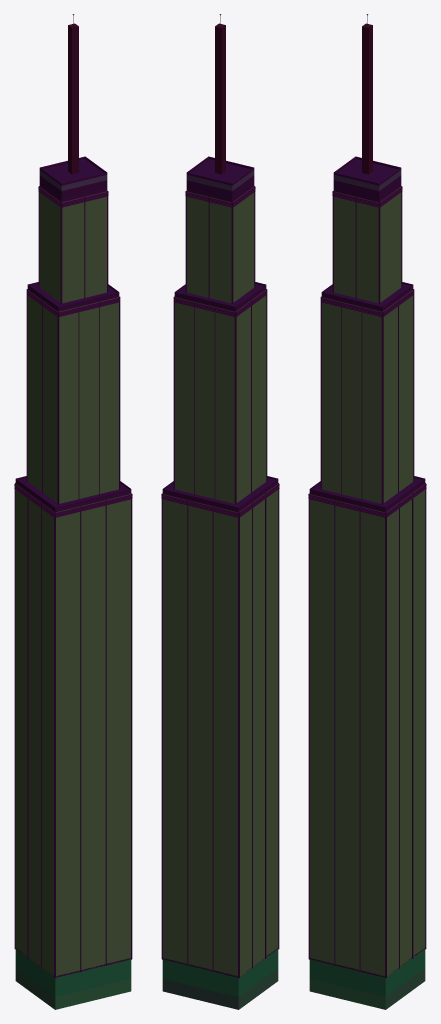
The model's file is tower_o.glb.
3 renders of one model, left to right at view 1: azimuth 30°, elevation 25°; view 2: azimuth 150°, elevation 25°; view 3: azimuth 330°, elevation 25°, orthographic.
Visible parts, largest first — view 1: tower_o; view 2: tower_o; view 3: tower_o.
Part boxes in pixels (<box>): tower_o: <box>14,14,132,1009</box>; tower_o: <box>161,14,279,1009</box>; tower_o: <box>308,14,426,1009</box>.
Bounding box in the file's own units: 30.83 × 365 × 27.84.
